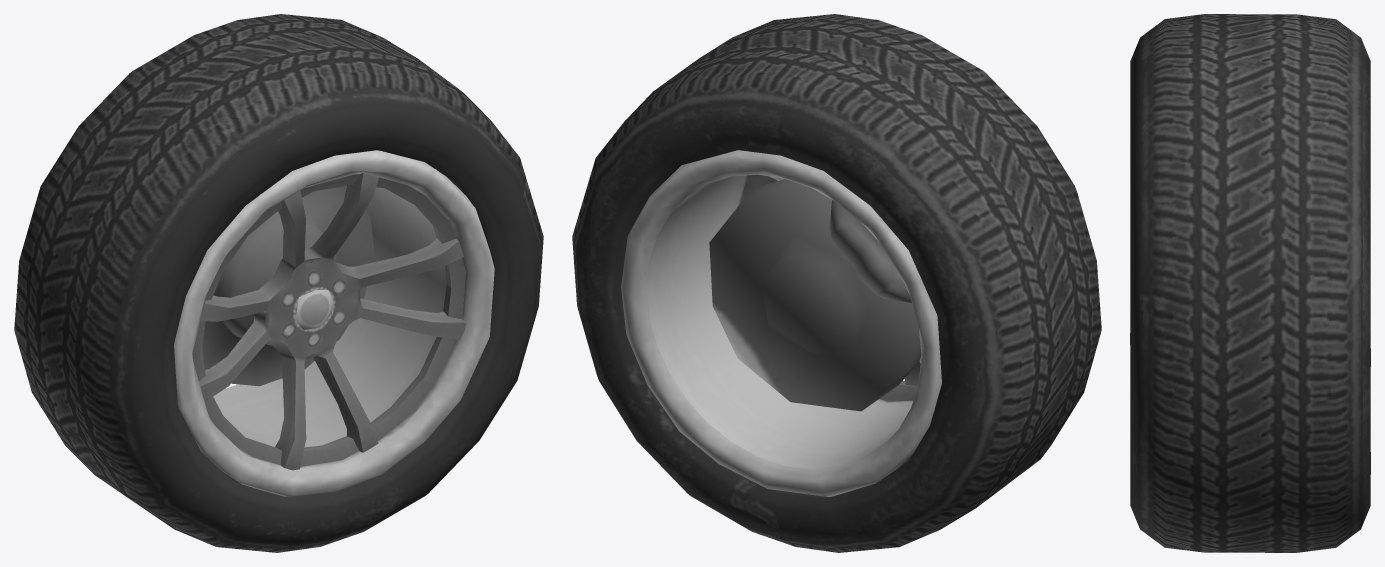
File: SM_SportsCar_Wheel.glb
The picture shows the model from 3 angles, left to right: view 1: azimuth 30°, elevation 25°; view 2: azimuth 150°, elevation 25°; view 3: azimuth 270°, elevation 25°; orthographic projection. The views are drawn at different scales.
Parts seen in each view (by area): view 1: SM_SportsCar_Wheel; view 2: SM_SportsCar_Wheel; view 3: SM_SportsCar_Wheel.
Boxes of the visible parts, <box> form: SM_SportsCar_Wheel: <box>14,14,543,552</box>; SM_SportsCar_Wheel: <box>572,14,1101,552</box>; SM_SportsCar_Wheel: <box>1130,14,1370,552</box>.
Size of the model in its own units: 0.7847 by 0.7846 by 0.35.
2 materials, 2 textured.
